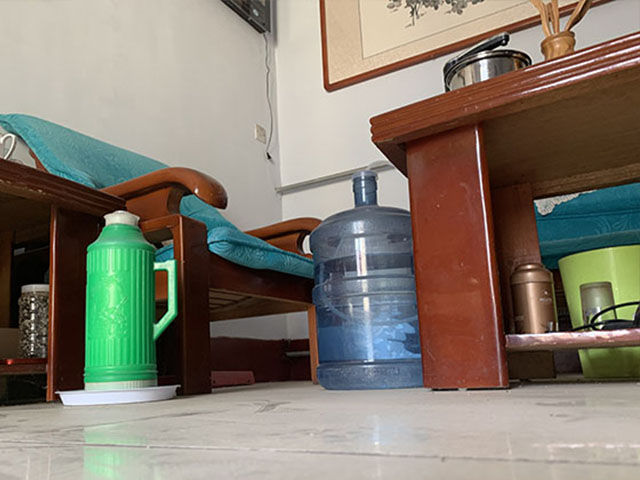sofa: (98, 164, 329, 396)
table: (368, 31, 640, 392)
trash can: (556, 239, 640, 382)
